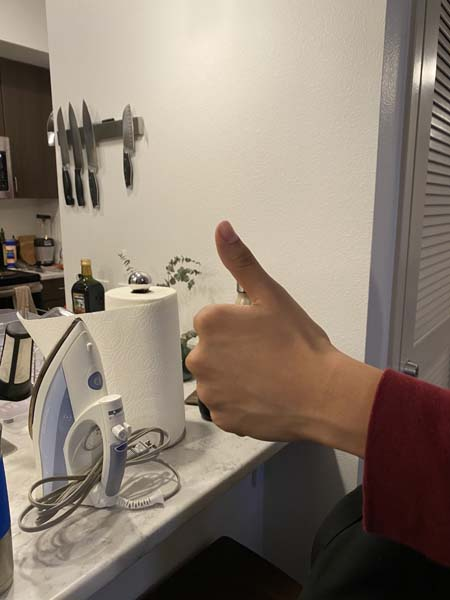Thumbs Up: (178, 211, 349, 477)
